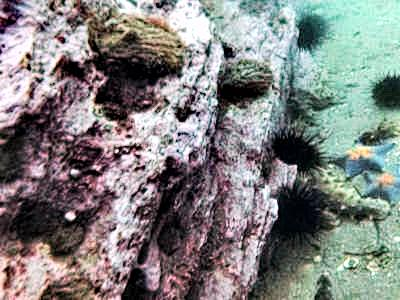urchin: (268, 184, 331, 242), (269, 126, 331, 179), (296, 12, 328, 53), (370, 72, 392, 110)
